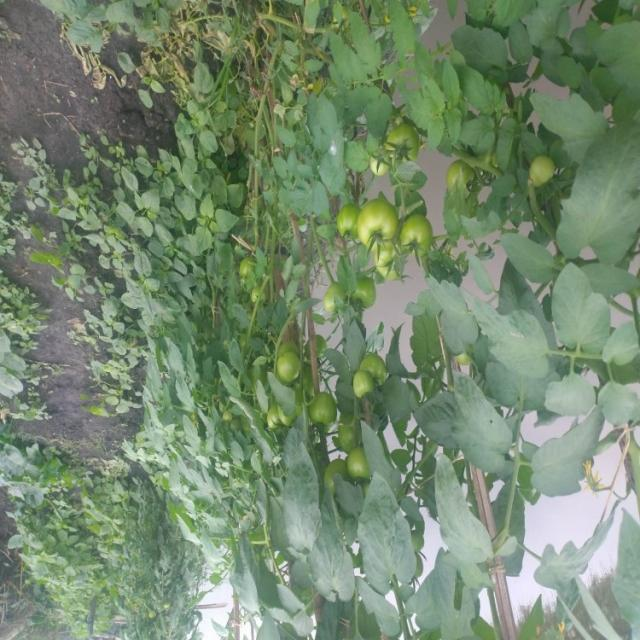tomato: (399, 203, 452, 269), (351, 194, 398, 255), (380, 120, 419, 168), (370, 239, 409, 285), (335, 454, 373, 500), (441, 159, 480, 197), (358, 343, 388, 389), (527, 152, 563, 189), (269, 343, 301, 384), (307, 394, 343, 429), (260, 403, 292, 441), (339, 371, 370, 405), (331, 203, 356, 241)
